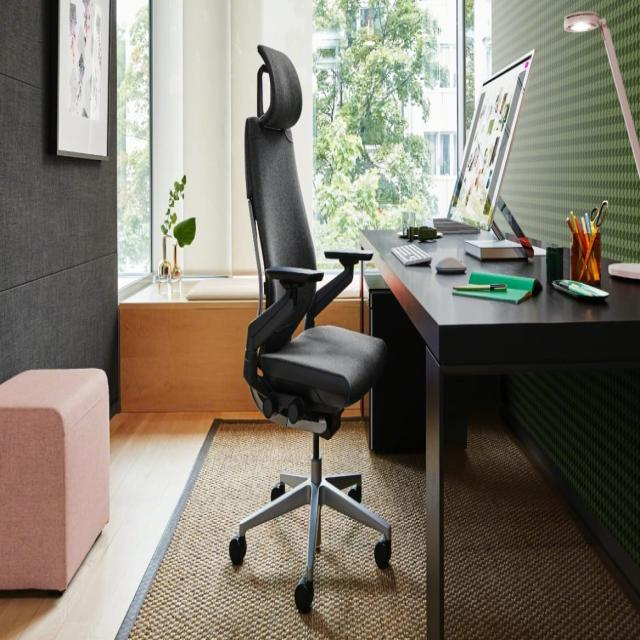chair: (174, 41, 410, 640)
